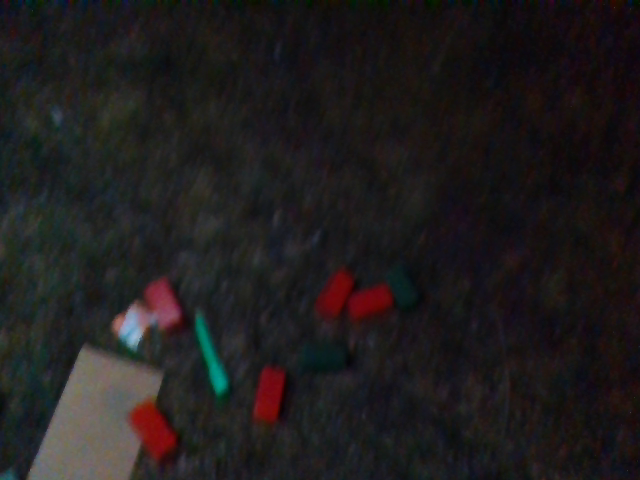Probe: (186, 302, 235, 399)
